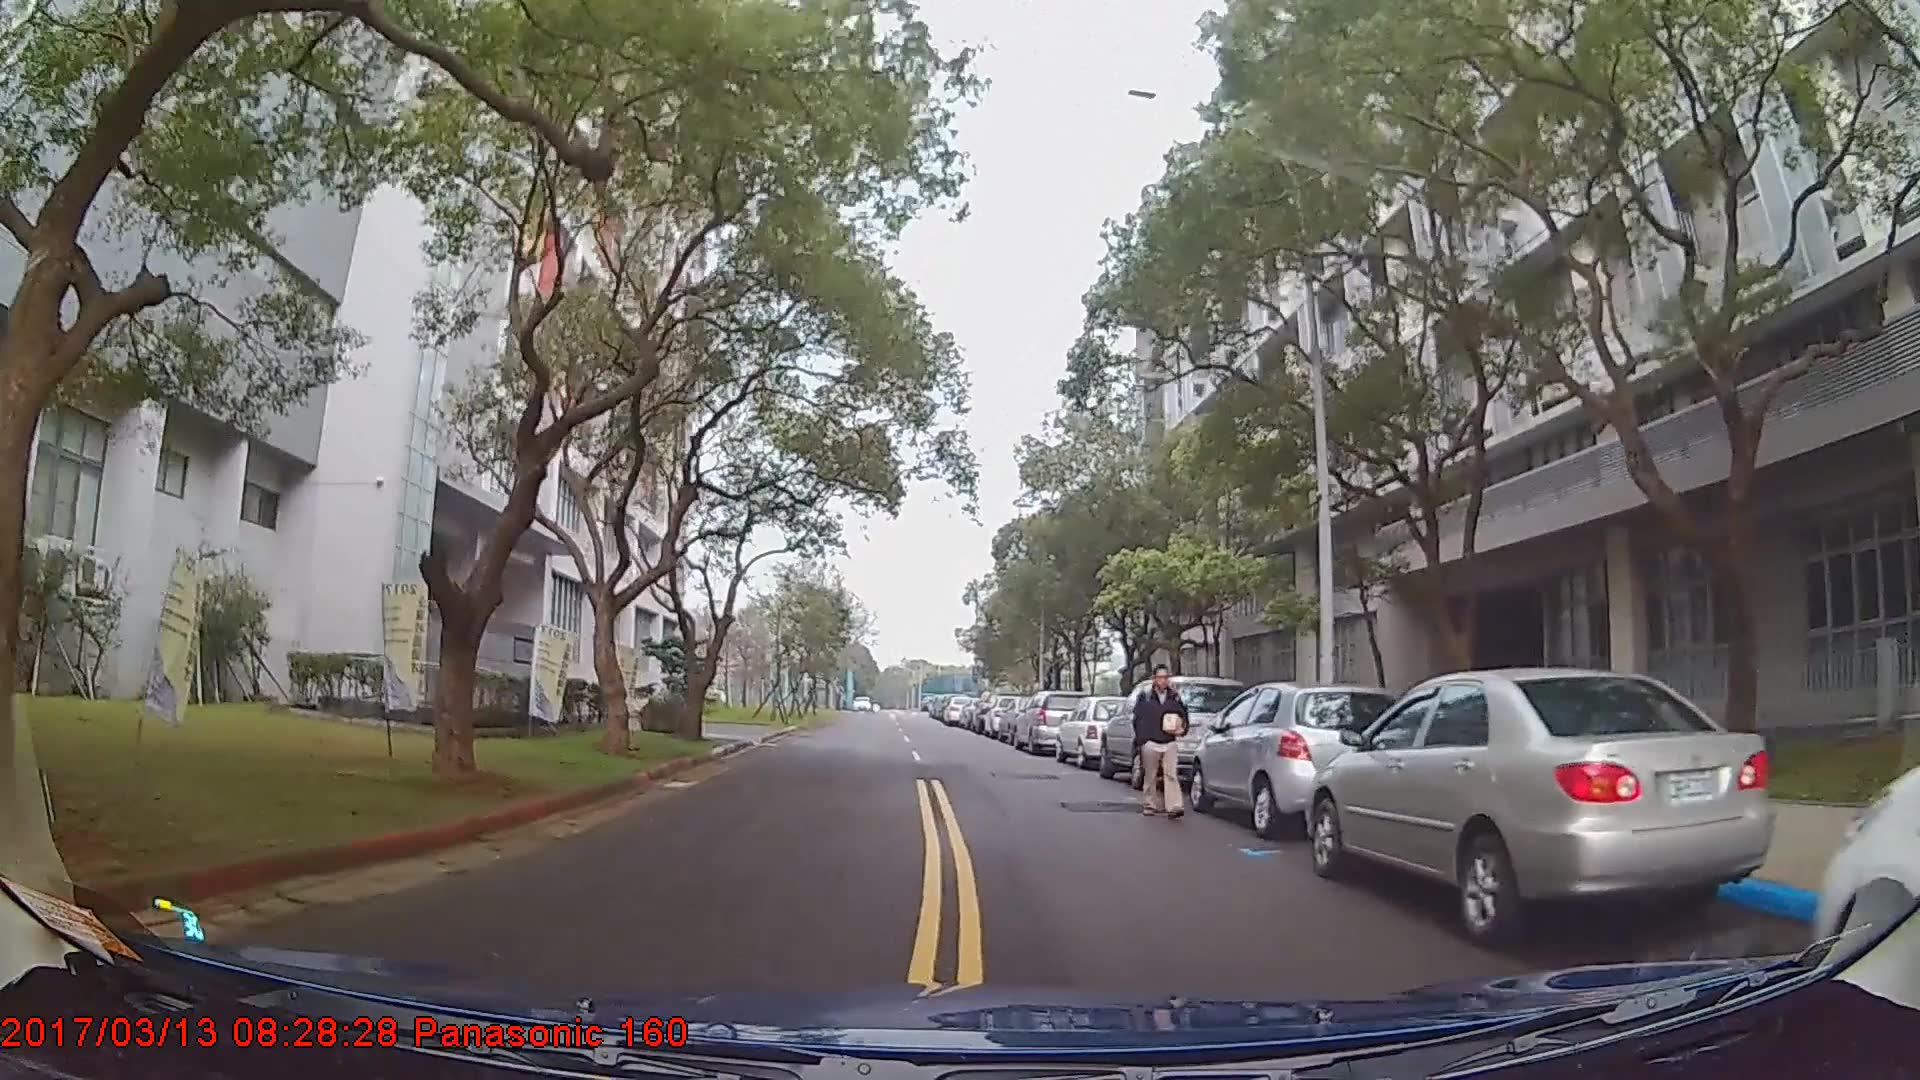pedestrian: (1137, 664, 1196, 818)
vehicle: (1305, 664, 1776, 947), (1188, 679, 1403, 835), (1099, 674, 1251, 788), (1054, 692, 1139, 768), (1012, 688, 1095, 752)
